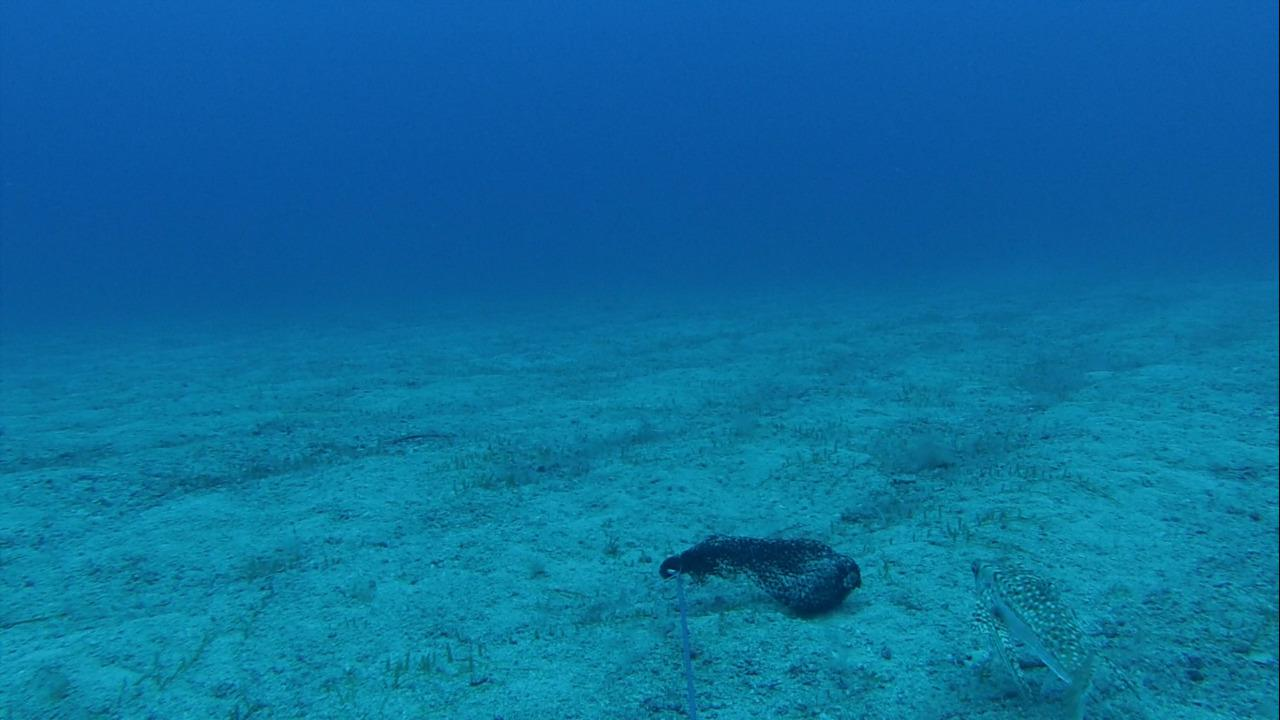dactylopterus: (957, 548, 1162, 719)
